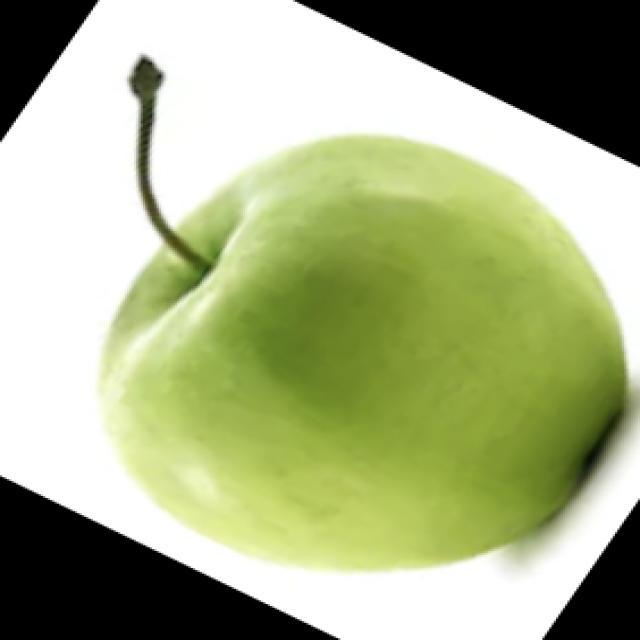Fresh Apple: (105, 133, 592, 580)
